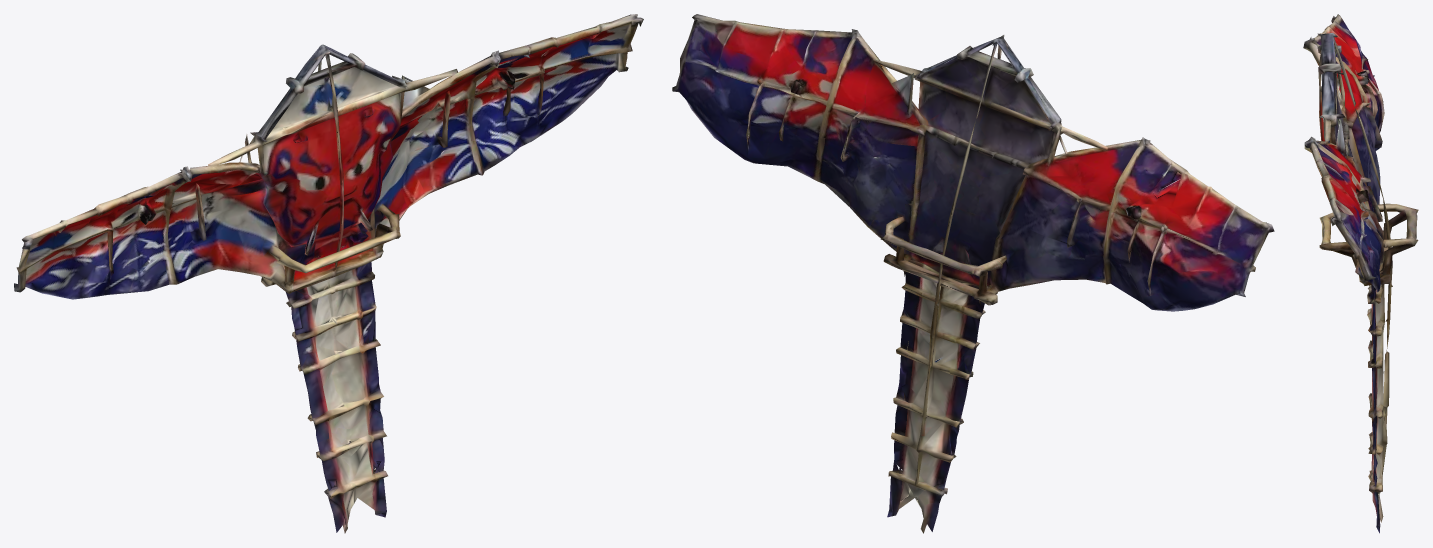
File: y_odako.glb
The picture shows the model from 3 angles, left to right: view 1: azimuth 30°, elevation 25°; view 2: azimuth 150°, elevation 25°; view 3: azimuth 270°, elevation 25°; orthographic projection. The views are drawn at different scales.
Visible parts, largest first — view 1: tripo_node_7317c054-9835-45c6-8847-2e4cee5522fa; view 2: tripo_node_7317c054-9835-45c6-8847-2e4cee5522fa; view 3: tripo_node_7317c054-9835-45c6-8847-2e4cee5522fa.
Part boxes in pixels (x1,y1,x2,y2): tripo_node_7317c054-9835-45c6-8847-2e4cee5522fa: [14, 14, 643, 533]; tripo_node_7317c054-9835-45c6-8847-2e4cee5522fa: [672, 14, 1274, 533]; tripo_node_7317c054-9835-45c6-8847-2e4cee5522fa: [1303, 14, 1418, 533].
Bounding box in the file's own units: 0.9848 × 0.784 × 0.1753.
1 material, 1 textured.
